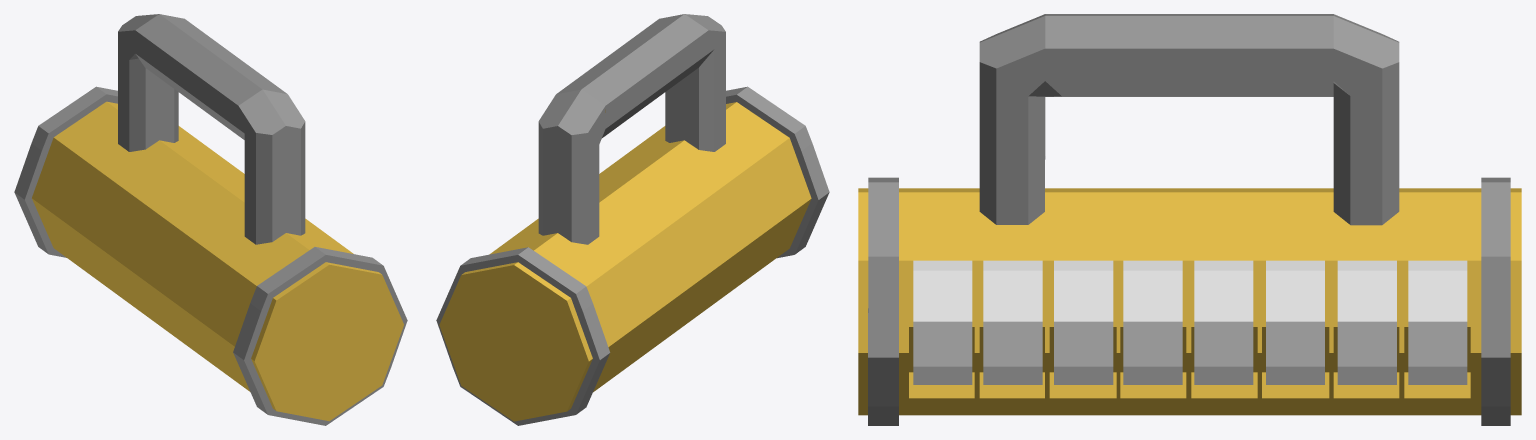
The model's file is Candado.fbx.
3 renders of one model, left to right at view 1: azimuth 30°, elevation 25°; view 2: azimuth 150°, elevation 25°; view 3: azimuth 270°, elevation 25°, orthographic. The views are drawn at different scales.
Visible parts, largest first — view 1: Cylinder.001; view 2: Cylinder.001; view 3: Cylinder.001, Cube.023, Cube.026, Cube.009, Cube.010, Cube.018, Cube.025, Cube.027, Cube.017.
Part boxes in pixels (<box>): Cylinder.001: <box>14,14,407,425</box>; Cylinder.001: <box>436,14,829,425</box>; Cylinder.001: <box>858,14,1521,425</box>; Cube.023: <box>1123,260,1182,384</box>; Cube.026: <box>983,260,1042,384</box>; Cube.009: <box>1408,260,1467,384</box>; Cube.010: <box>1337,260,1396,384</box>; Cube.018: <box>1194,260,1253,384</box>; Cube.025: <box>1054,260,1113,384</box>; Cube.027: <box>913,260,972,384</box>; Cube.017: <box>1266,260,1324,384</box>.
Bounding box in the file's own units: 34.55 × 58.57 × 86.8.
